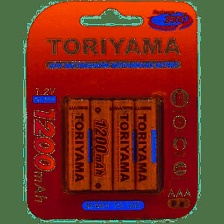battery: (133, 96, 163, 196), (64, 96, 94, 194), (110, 97, 139, 194), (86, 97, 115, 193)
book: (18, 0, 203, 223)
